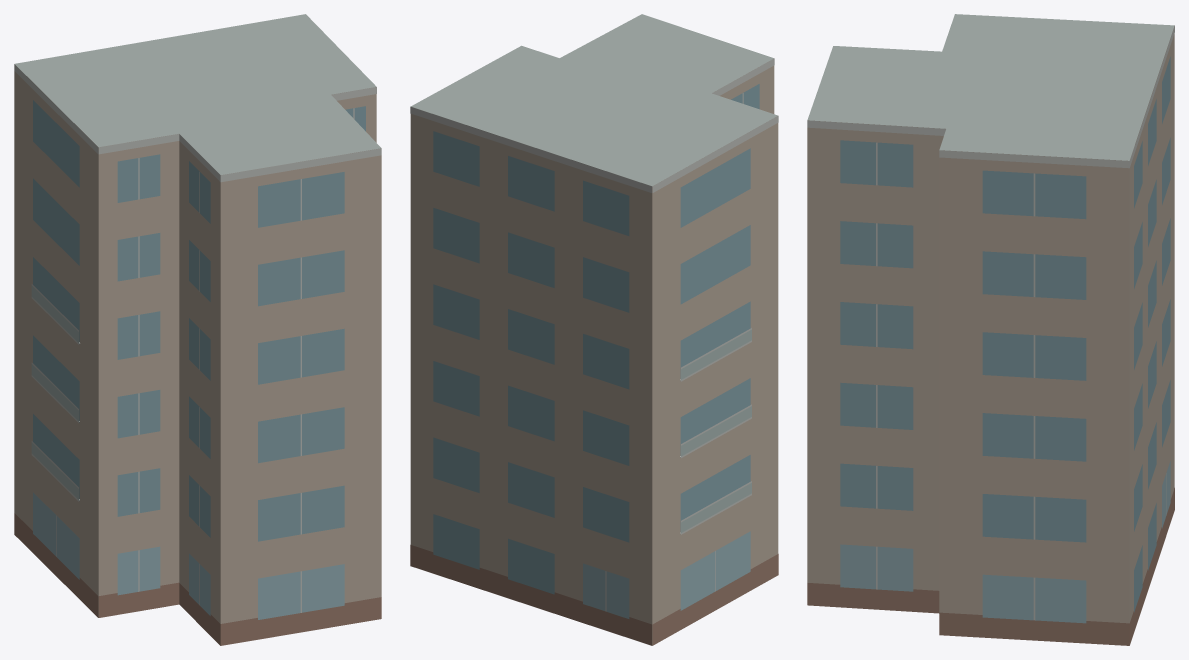
Rendered from survey-upis-32654991.glb.
The picture shows the model from 3 angles, left to right: view 1: azimuth 30°, elevation 25°; view 2: azimuth 150°, elevation 25°; view 3: azimuth 270°, elevation 25°; orthographic projection. The views are drawn at different scales.
Visible parts, largest first — view 1: survey-upis-32654991.tmp; view 2: survey-upis-32654991.tmp; view 3: survey-upis-32654991.tmp.
Part boxes in pixels (left/top/right/bottom): survey-upis-32654991.tmp: left=14, top=14, right=381, bottom=645; survey-upis-32654991.tmp: left=410, top=14, right=778, bottom=645; survey-upis-32654991.tmp: left=807, top=14, right=1174, bottom=645.
Bounding box in the file's own units: 10.47 × 16.1 × 11.06.
